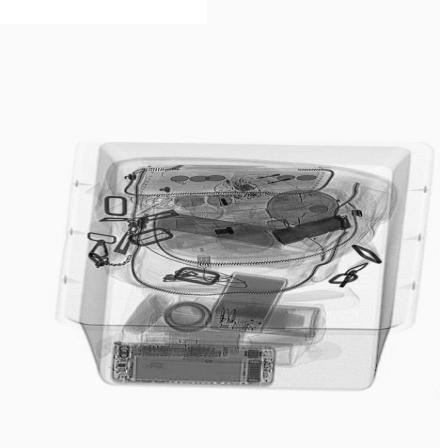Powerbank: (201, 274, 292, 334)
